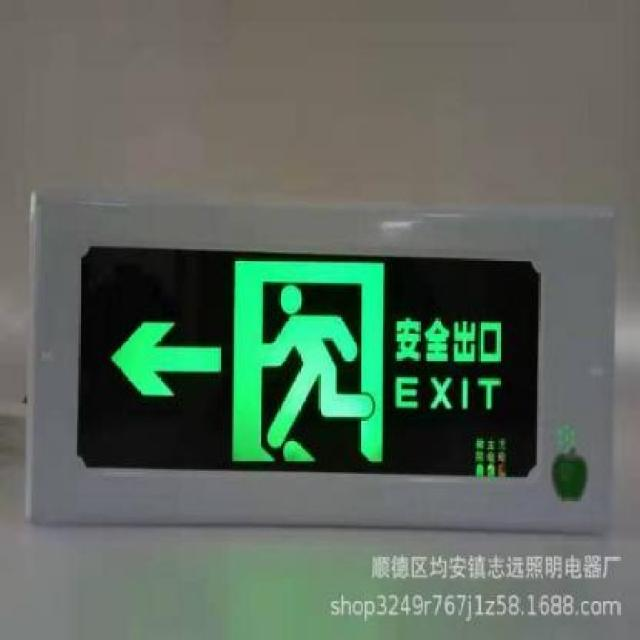exit_sign: (61, 234, 548, 491)
